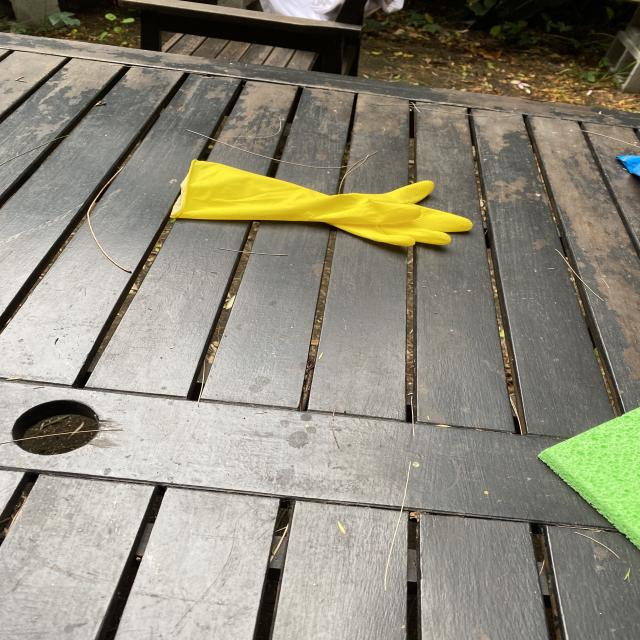glove: (169, 159, 473, 248)
